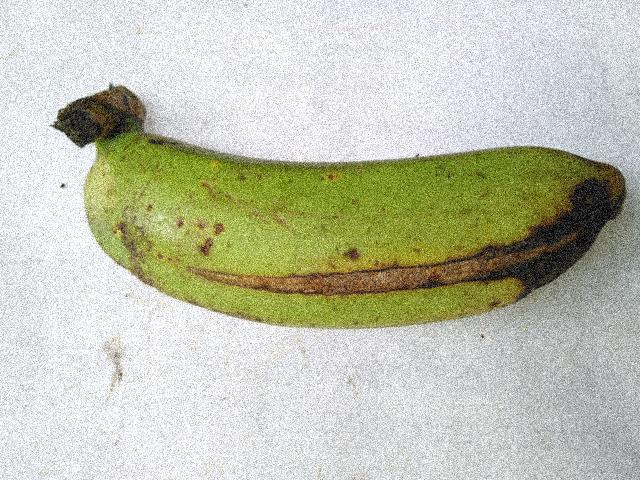rotten: (194, 169, 617, 370)
